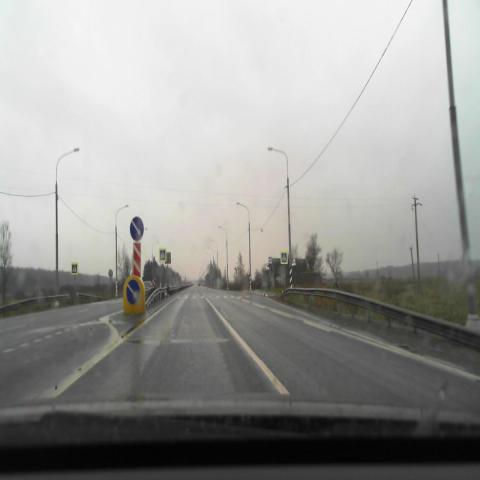4_2_1: (126, 280, 140, 304)
